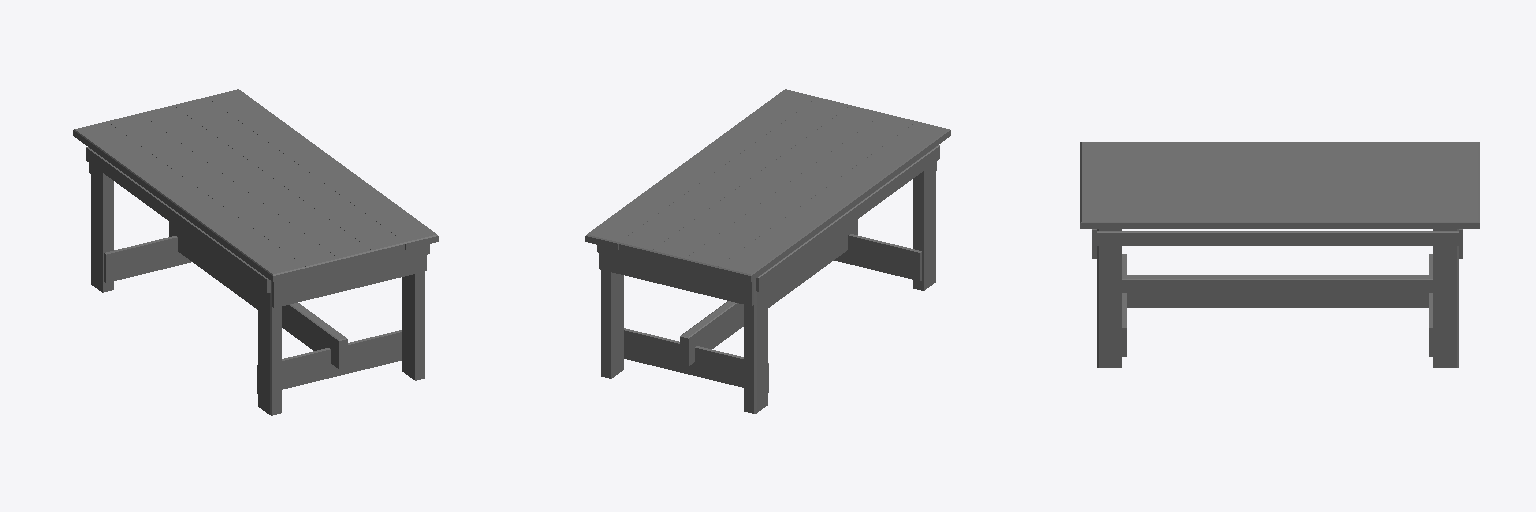
File: Wooden_Table.obj
3 views of the same model, side by side, from view 1: azimuth 30°, elevation 25°; view 2: azimuth 150°, elevation 25°; view 3: azimuth 270°, elevation 25° (orthographic).
Parts seen in each view (by area): view 1: Wooden_Table:Table_Top, Wooden_Table:Table_bot; view 2: Wooden_Table:Table_Top, Wooden_Table:Table_bot; view 3: Wooden_Table:Table_Top, Wooden_Table:Table_bot.
Boxes of the visible parts, <box> form: Wooden_Table:Table_Top: <box>73,89,438,281</box>; Wooden_Table:Table_bot: <box>86,147,429,415</box>; Wooden_Table:Table_Top: <box>585,89,950,281</box>; Wooden_Table:Table_bot: <box>597,145,939,413</box>; Wooden_Table:Table_Top: <box>1080,142,1479,228</box>; Wooden_Table:Table_bot: <box>1092,229,1462,367</box>.
Size of the model in its own units: 32.38 by 27.74 by 67.66.